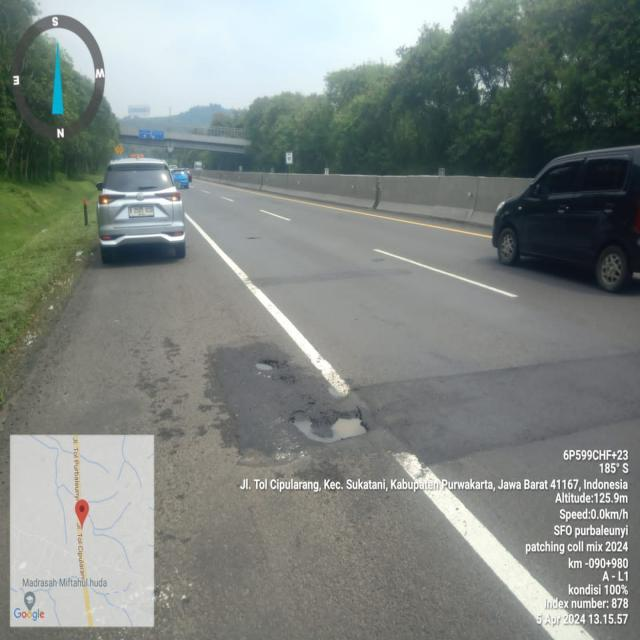Buraco: (285, 405, 373, 446), (252, 358, 291, 372), (243, 234, 262, 242)
